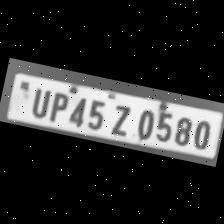0: (129, 103, 158, 141), (187, 115, 214, 151)
4: (62, 92, 89, 128)
5: (82, 94, 110, 132), (150, 106, 177, 144)
8: (170, 112, 194, 148)
P: (44, 88, 70, 124)
U: (24, 83, 52, 120)
Z: (104, 99, 136, 137)
